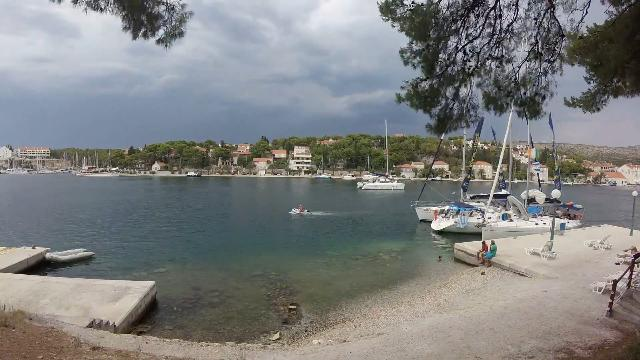Sailboat: (352, 172, 408, 194)
speedboat: (289, 199, 313, 217)
